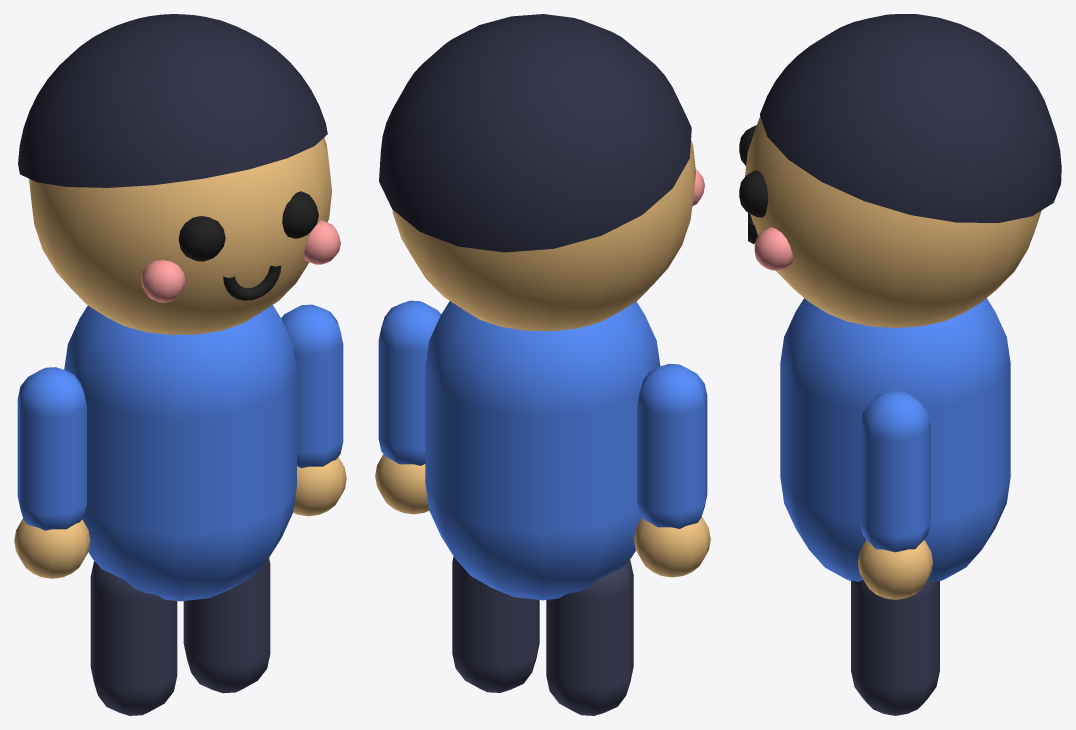
Rendered from starter_human.glb.
3 views of the same model, side by side, from view 1: azimuth 30°, elevation 25°; view 2: azimuth 150°, elevation 25°; view 3: azimuth 270°, elevation 25° (orthographic). The views are drawn at different scales.
Visible parts, largest first — view 1: mesh_human_2, mesh_human_6, mesh_human_3, mesh_human_14, mesh_human_10, mesh_human_15, mesh_human_12, mesh_human_11, mesh_human_13, mesh_human_7, mesh_human_4, mesh_human_8 (+2 smaller); view 2: mesh_human_6, mesh_human_2, mesh_human_3, mesh_human_14, mesh_human_10, mesh_human_15, mesh_human_12, mesh_human_11, mesh_human_13; view 3: mesh_human_6, mesh_human_2, mesh_human_3, mesh_human_12, mesh_human_15, mesh_human_13, mesh_human_5, mesh_human_8.
Boxes of the visible parts, x1,y1,x2,y2 form: mesh_human_2: (64, 305, 296, 601); mesh_human_6: (18, 14, 327, 187); mesh_human_3: (29, 137, 331, 334); mesh_human_14: (90, 561, 177, 715); mesh_human_10: (17, 367, 86, 530); mesh_human_15: (183, 558, 270, 693); mesh_human_12: (281, 304, 343, 468); mesh_human_11: (14, 518, 90, 578); mesh_human_13: (293, 457, 346, 516); mesh_human_7: (178, 216, 225, 261); mesh_human_4: (141, 260, 185, 302); mesh_human_8: (282, 191, 318, 238); mesh_human_6: (379, 14, 691, 252); mesh_human_2: (425, 301, 660, 600); mesh_human_3: (392, 140, 695, 331); mesh_human_14: (546, 560, 633, 715); mesh_human_10: (637, 363, 707, 528); mesh_human_15: (452, 556, 539, 692); mesh_human_12: (378, 300, 440, 465); mesh_human_11: (634, 516, 710, 577); mesh_human_13: (375, 454, 429, 514); mesh_human_6: (760, 14, 1061, 222); mesh_human_2: (780, 298, 1010, 581); mesh_human_3: (745, 116, 1041, 327); mesh_human_12: (860, 390, 930, 552); mesh_human_15: (851, 579, 939, 715); mesh_human_13: (858, 540, 932, 599); mesh_human_5: (754, 227, 792, 270); mesh_human_8: (739, 170, 767, 217).
Size of the model in its own units: 0.83 by 1.64 by 0.7272.
